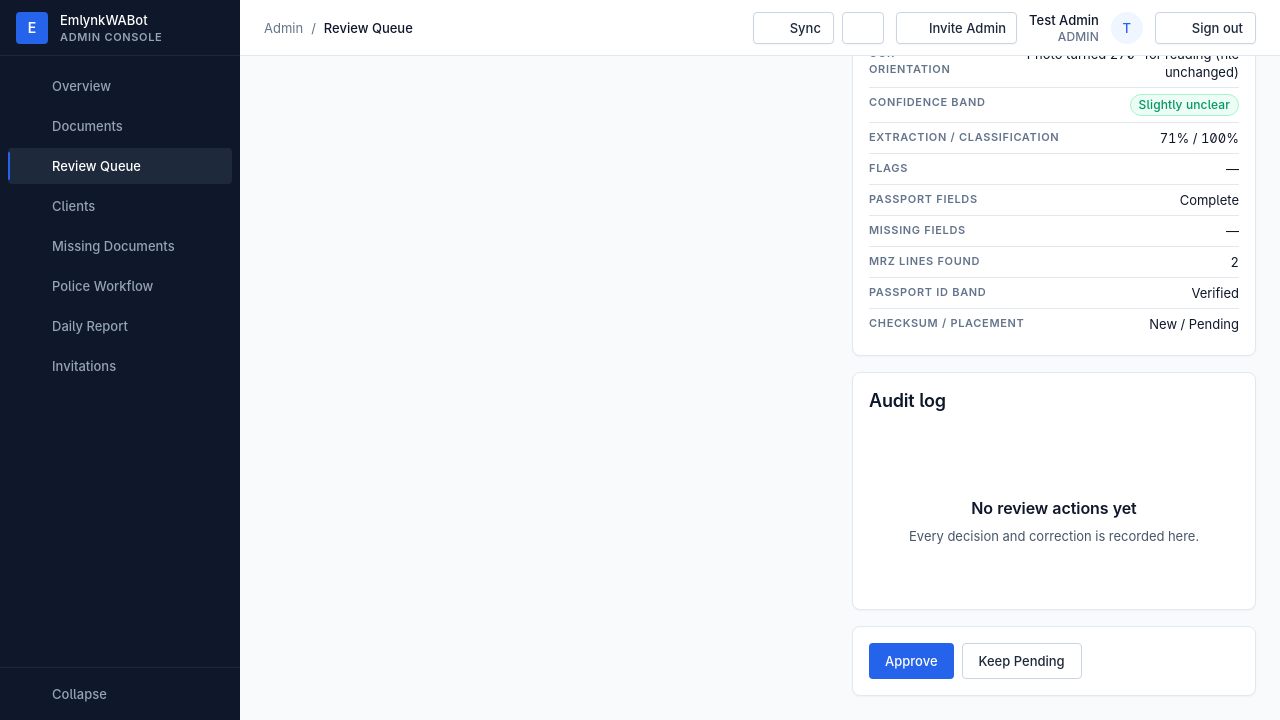
Review actions › Approve asks for confirmation; Cancel sends nothing
(page scrolled)
Click the button "Approve" at (911, 661), box [869, 643, 954, 679]
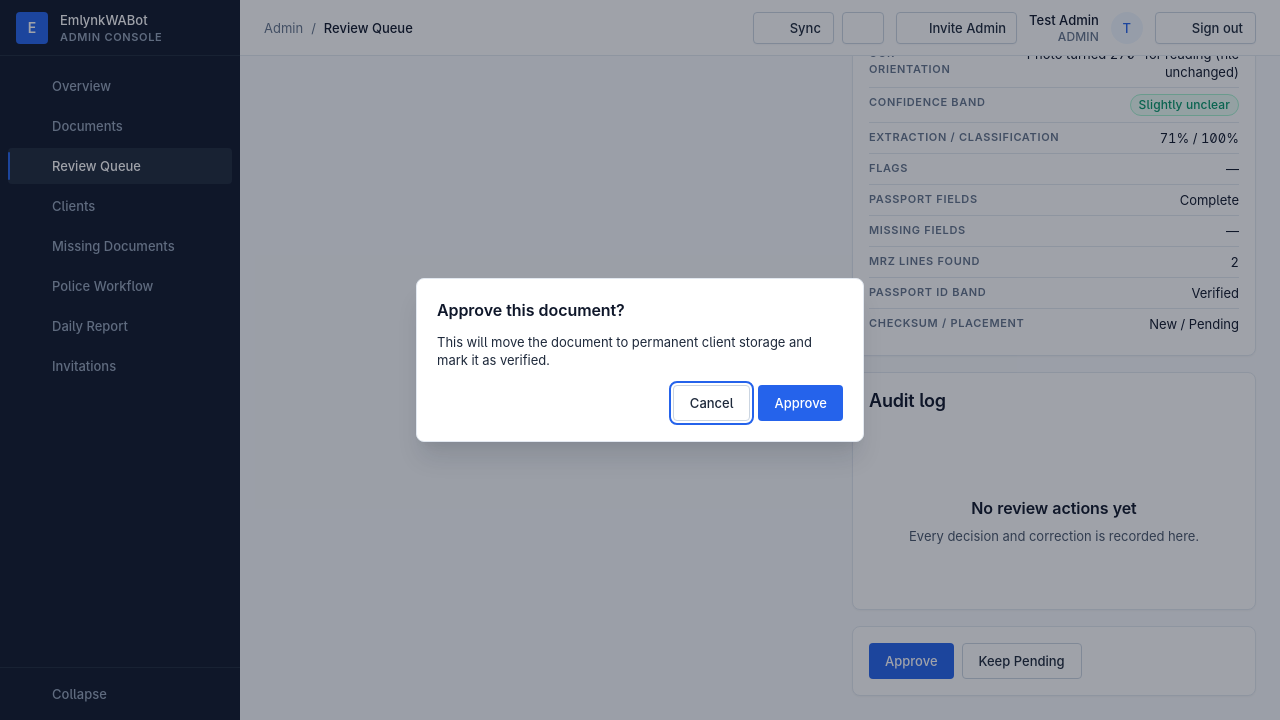
expect the dialog "Approve this document?" shows "This will move the document to permanent client storage and mark it as verified.": met, box [437, 334, 812, 368]
Click the button "Cancel" at (712, 403), box [673, 385, 750, 421]
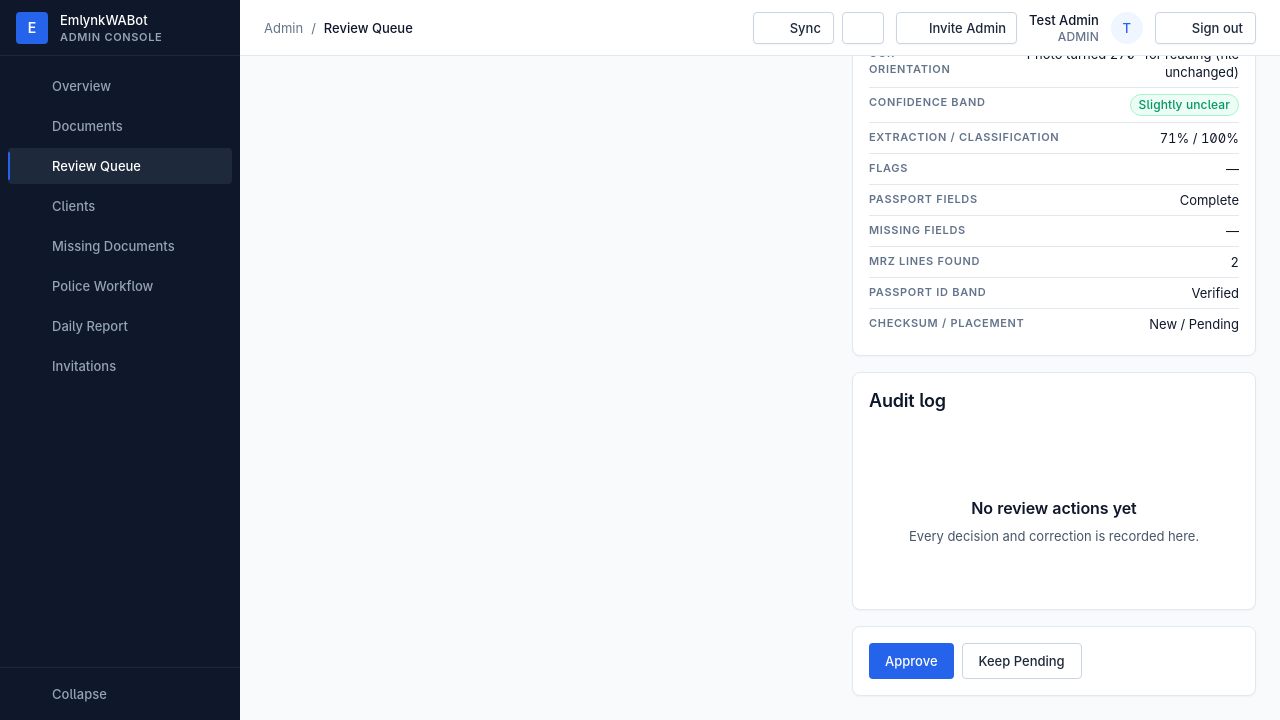
expect the dialog is gone: met
